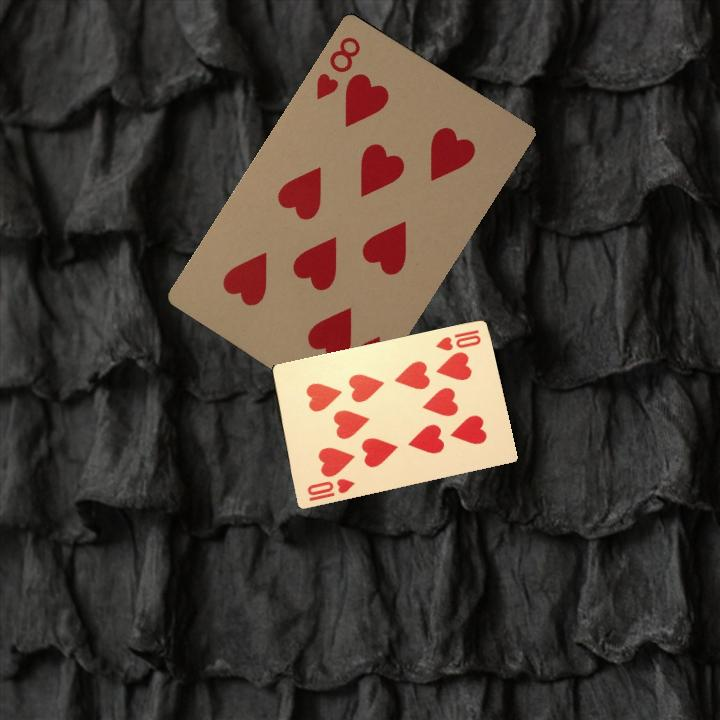10h: (303, 474, 356, 504), (432, 325, 484, 353)
8h: (312, 32, 363, 101)
